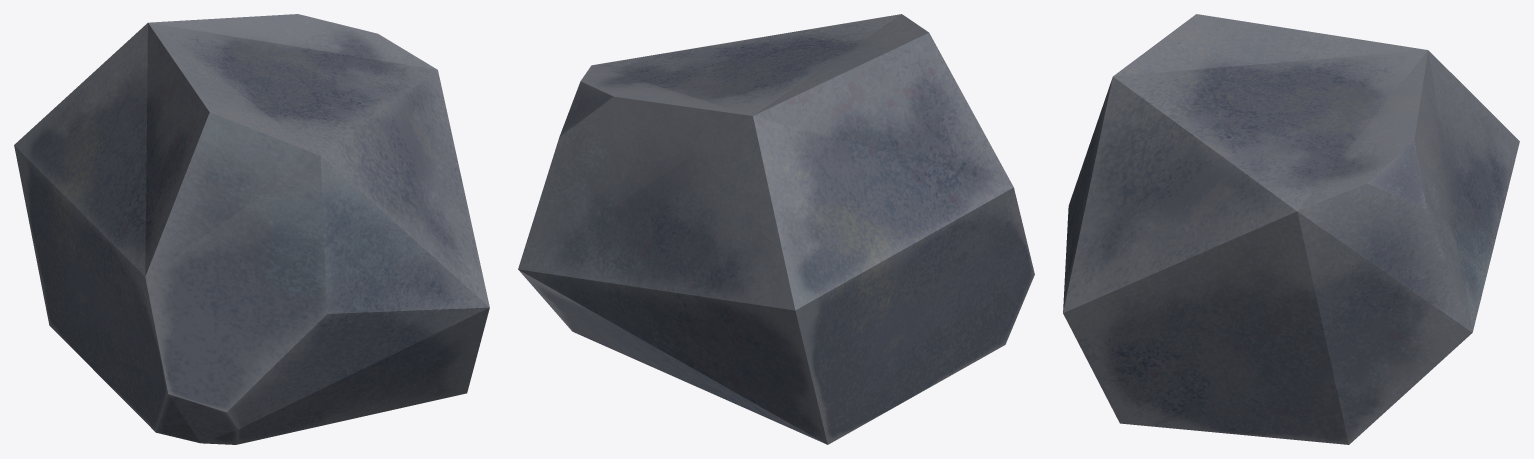
The model's file is stylized_rock_01.fbx.
3 renders of one model, left to right at view 1: azimuth 30°, elevation 25°; view 2: azimuth 150°, elevation 25°; view 3: azimuth 270°, elevation 25°, orthographic. The views are drawn at different scales.
Visible parts, largest first — view 1: stylized_rock_01; view 2: stylized_rock_01; view 3: stylized_rock_01.
Boxes of the visible parts, x1,y1,x2,y2 form: stylized_rock_01: [14, 14, 489, 444]; stylized_rock_01: [518, 14, 1034, 444]; stylized_rock_01: [1063, 14, 1519, 444].
Size of the model in its own units: 38.52 by 36.18 by 43.6.
